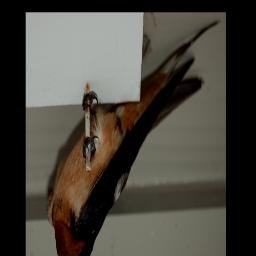Swallow: (52, 25, 222, 256)
